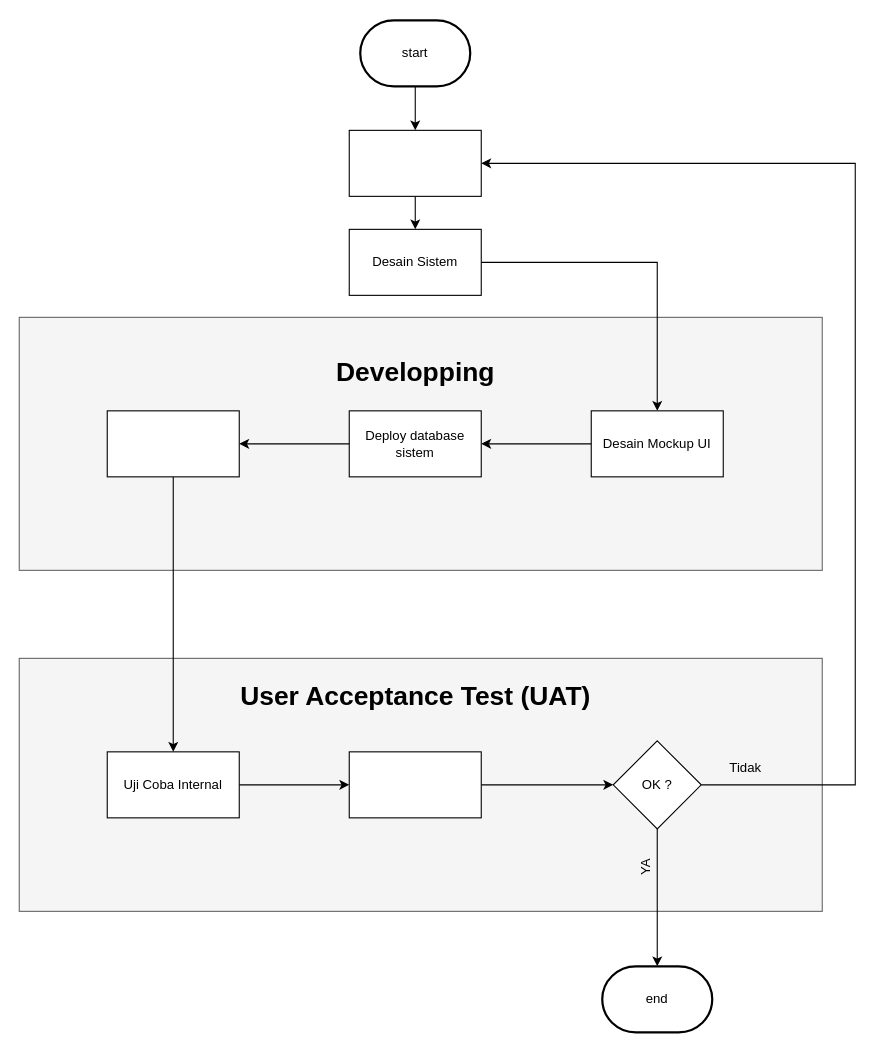
The diagram is 883 pixels wide and 1052 high, and some of its shapes have lost their labels. Here are the shapes that lost their labels. From the top down, the centre of each, then its label:
pixel 414 162: Analisa Kebutuhan Sistem
pixel 172 443: Pembangunan Sistem
pixel 414 784: Uji coba dengan Simulasi Ujian
